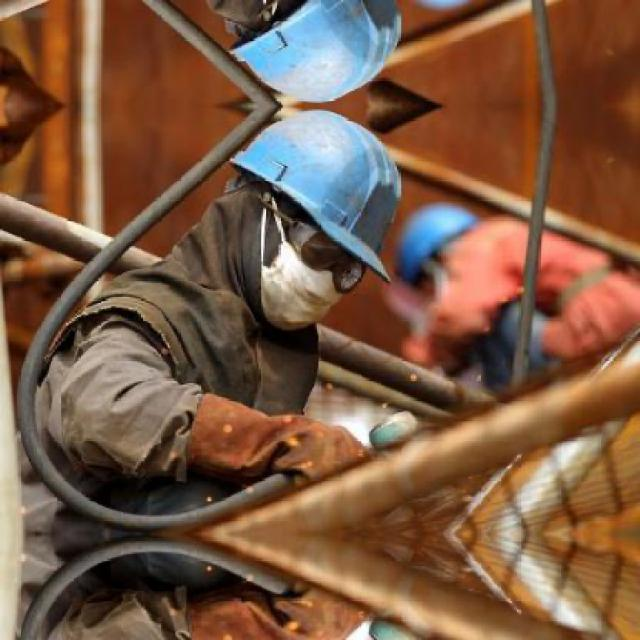helmet: (212, 106, 402, 319), (210, 0, 402, 105), (389, 197, 491, 298)
